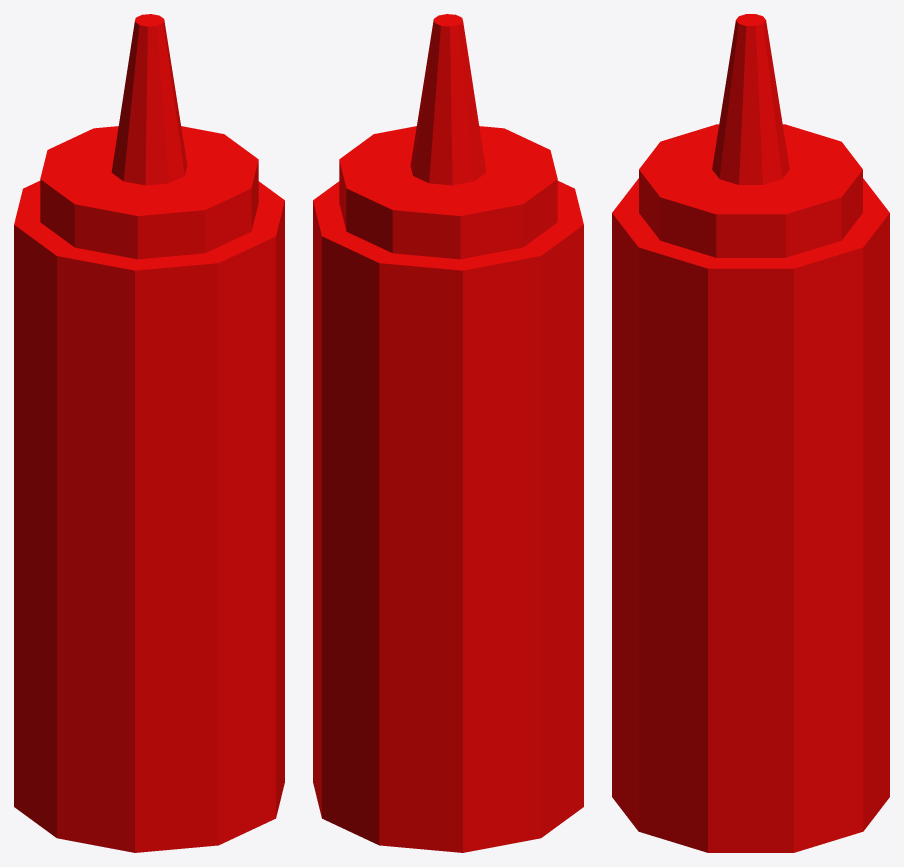
Rendered from ketchup 1.fbx.
3 renders of one model, left to right at view 1: azimuth 30°, elevation 25°; view 2: azimuth 150°, elevation 25°; view 3: azimuth 270°, elevation 25°, orthographic.
Visible parts, largest first — view 1: Cylinder; view 2: Cylinder; view 3: Cylinder.
Part boxes in pixels (<box>): Cylinder: <box>14,14,284,852</box>; Cylinder: <box>313,14,583,852</box>; Cylinder: <box>612,14,889,852</box>.
Bounding box in the file's own units: 0.0714 × 0.2315 × 0.075.
1 material, 1 textured.
